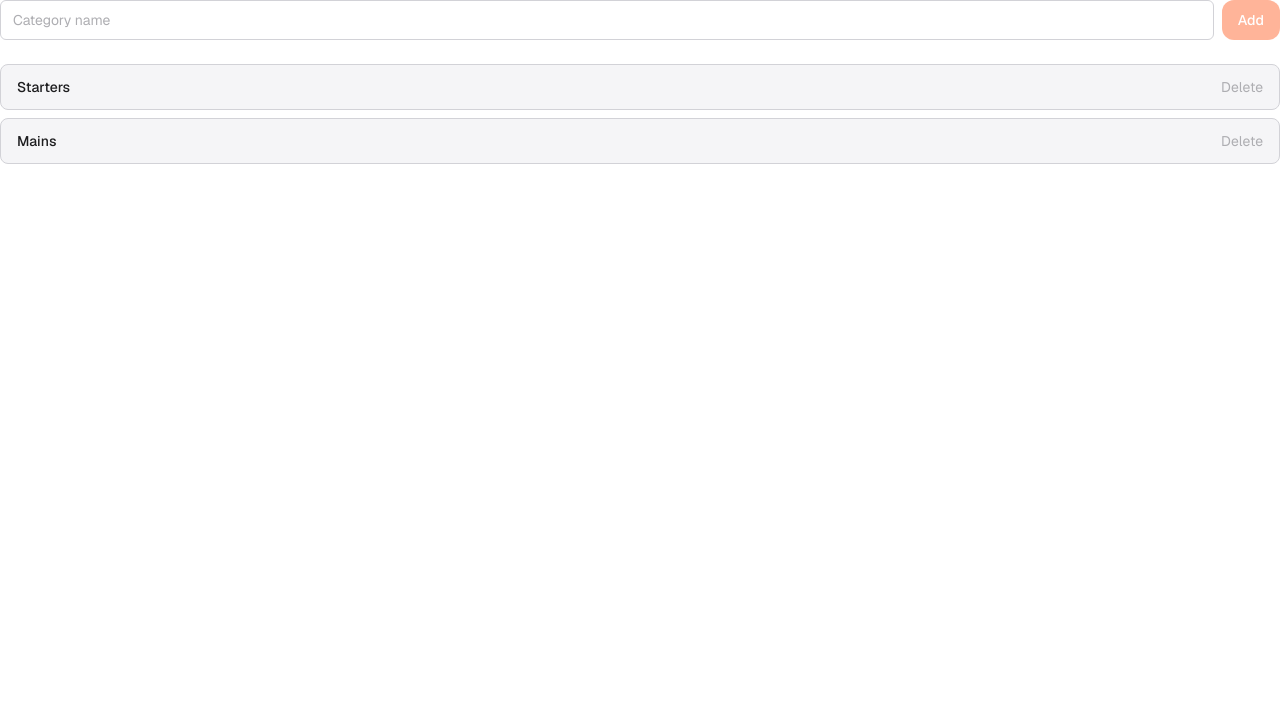
Test: CategoryManager › shows delete confirmation dialog before deleting
Click the 1st button "Delete". click: (1242, 87)
box: [1221,77,1263,97]
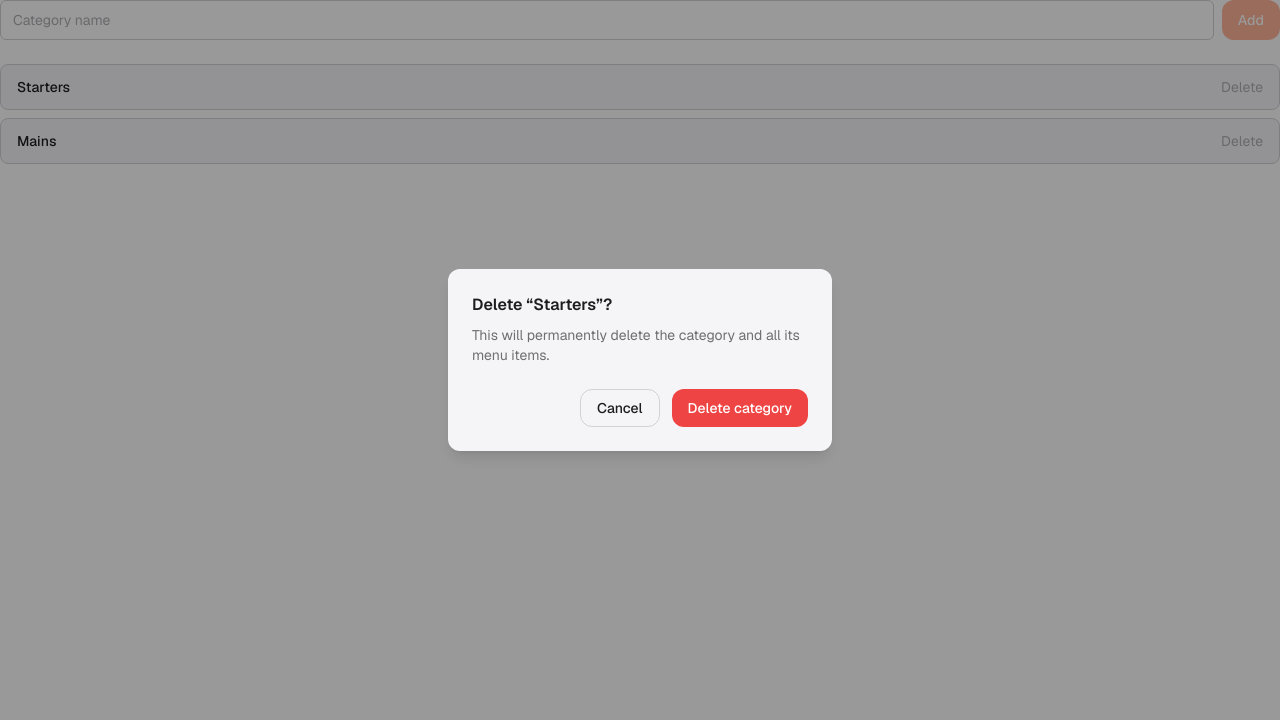
Result: the dialog is shown
